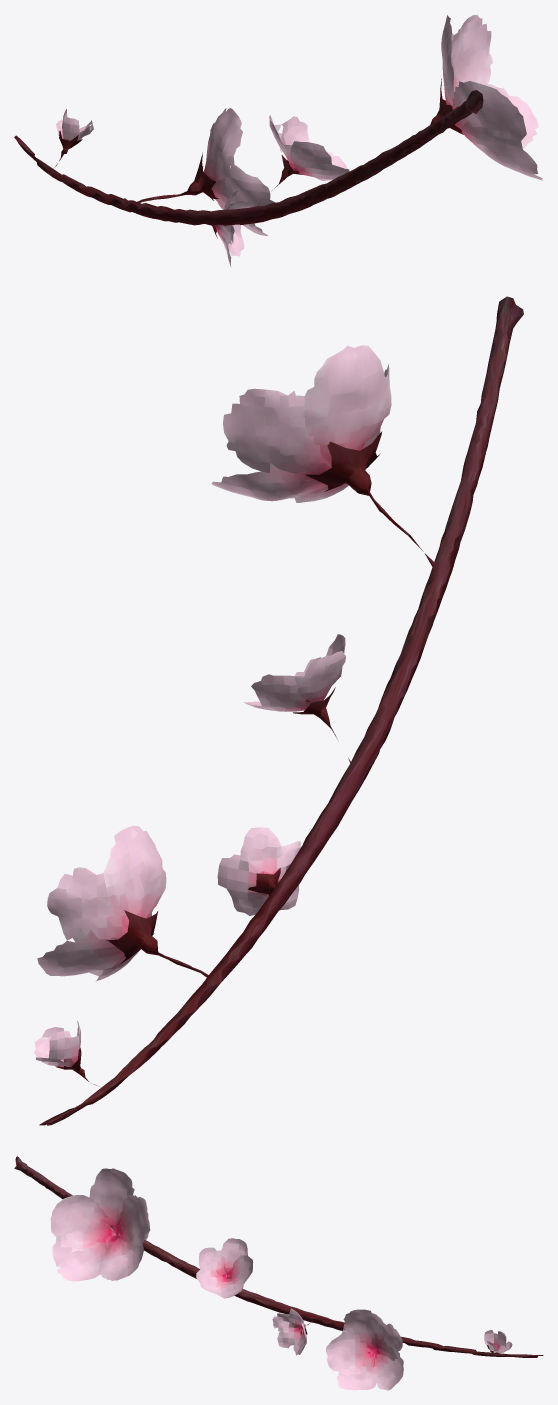
3 views of the same model, one above another, from view 1: azimuth 30°, elevation 25°; view 2: azimuth 150°, elevation 25°; view 3: azimuth 270°, elevation 25° (orthographic). The views are drawn at different scales.
Visible parts, largest first — view 1: 14fda60f; view 2: 14fda60f; view 3: 14fda60f.
Part boxes in pixels (x1,y1,x2,y2): 14fda60f: (14, 14, 542, 267); 14fda60f: (34, 296, 523, 1125); 14fda60f: (14, 1156, 543, 1390).
Bounding box in the file's own units: 0.0598 × 0.0973 × 0.2088.
Materials: 4 (4 with a texture image).
